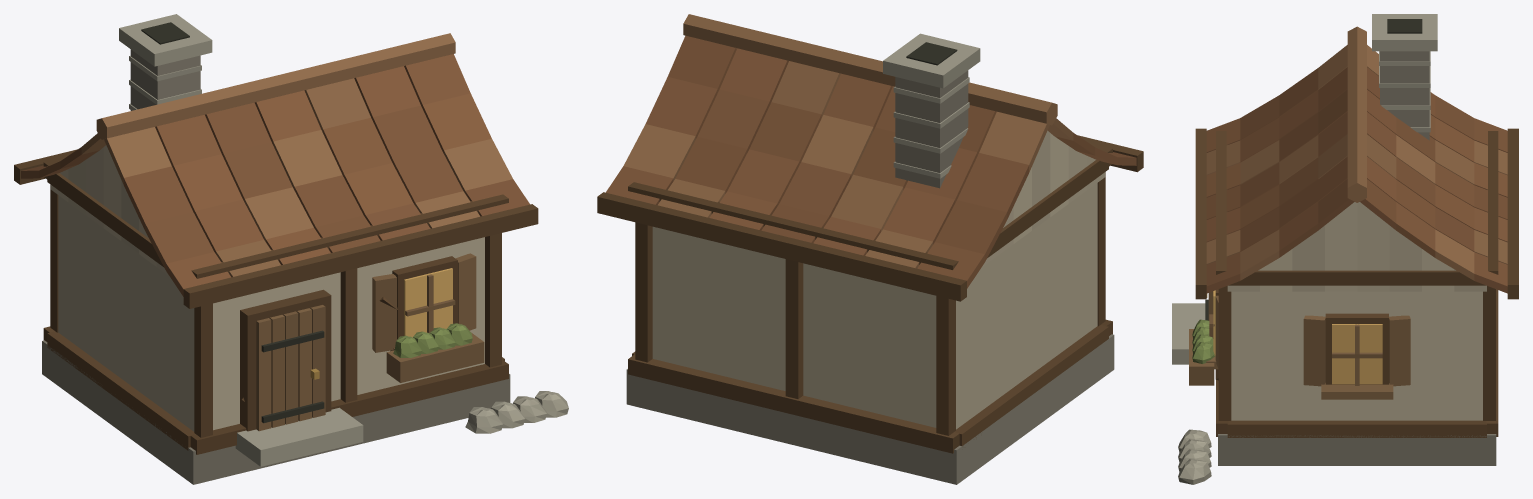
The model's file is hearth-cottage.glb.
3 views of the same model, side by side, from view 1: azimuth 30°, elevation 25°; view 2: azimuth 150°, elevation 25°; view 3: azimuth 270°, elevation 25° (orthographic). The views are drawn at different scales.
Visible parts, largest first — view 1: hearth-cottage; view 2: hearth-cottage; view 3: hearth-cottage.
Boxes of the visible parts, x1=… form: hearth-cottage: x1=14, y1=14, x2=568, y2=484; hearth-cottage: x1=597, y1=14, x2=1143, y2=484; hearth-cottage: x1=1172, y1=14, x2=1518, y2=484.
Bounding box in the file's own units: 3.77 × 3.45 × 3.28.
